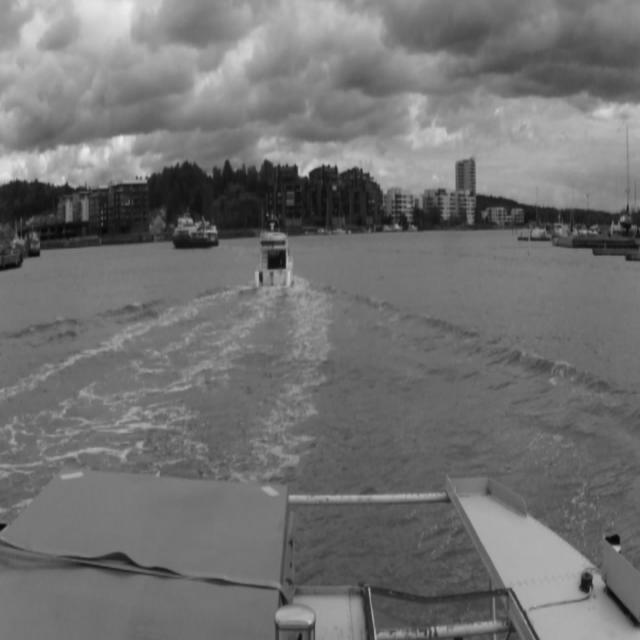ship: (253, 218, 293, 292), (172, 213, 218, 247)
